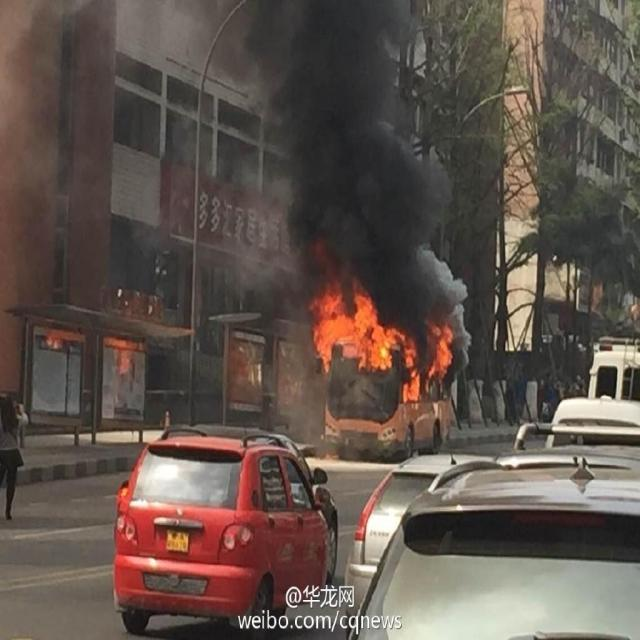Fire: (308, 289, 456, 403)
Smoke: (195, 2, 470, 410)
